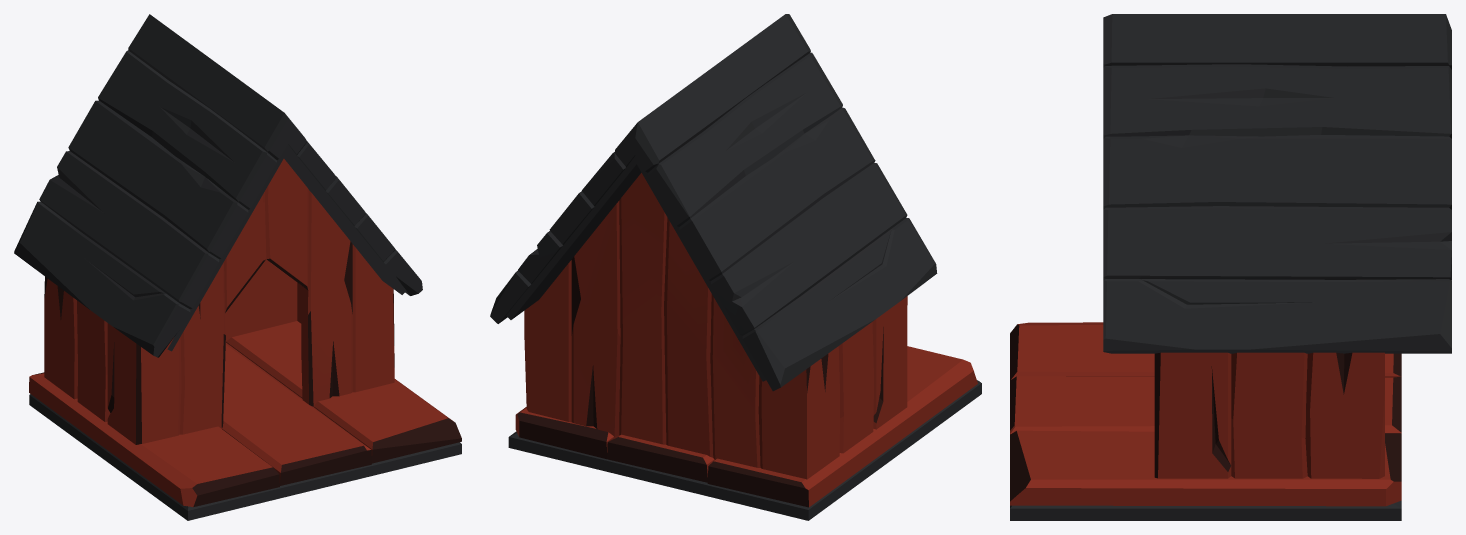
File: Dog_House_3.fbx
The picture shows the model from 3 angles, left to right: view 1: azimuth 30°, elevation 25°; view 2: azimuth 150°, elevation 25°; view 3: azimuth 270°, elevation 25°; orthographic projection. The views are drawn at different scales.
Parts seen in each view (by area): view 1: Dog_House_3; view 2: Dog_House_3; view 3: Dog_House_3.
Part boxes in pixels (x1,y1,x2,y2): Dog_House_3: (14,14,461,520); Dog_House_3: (490,14,981,520); Dog_House_3: (1010,14,1451,520).
Bounding box in the file's own units: 34.55 × 41.04 × 38.65.
